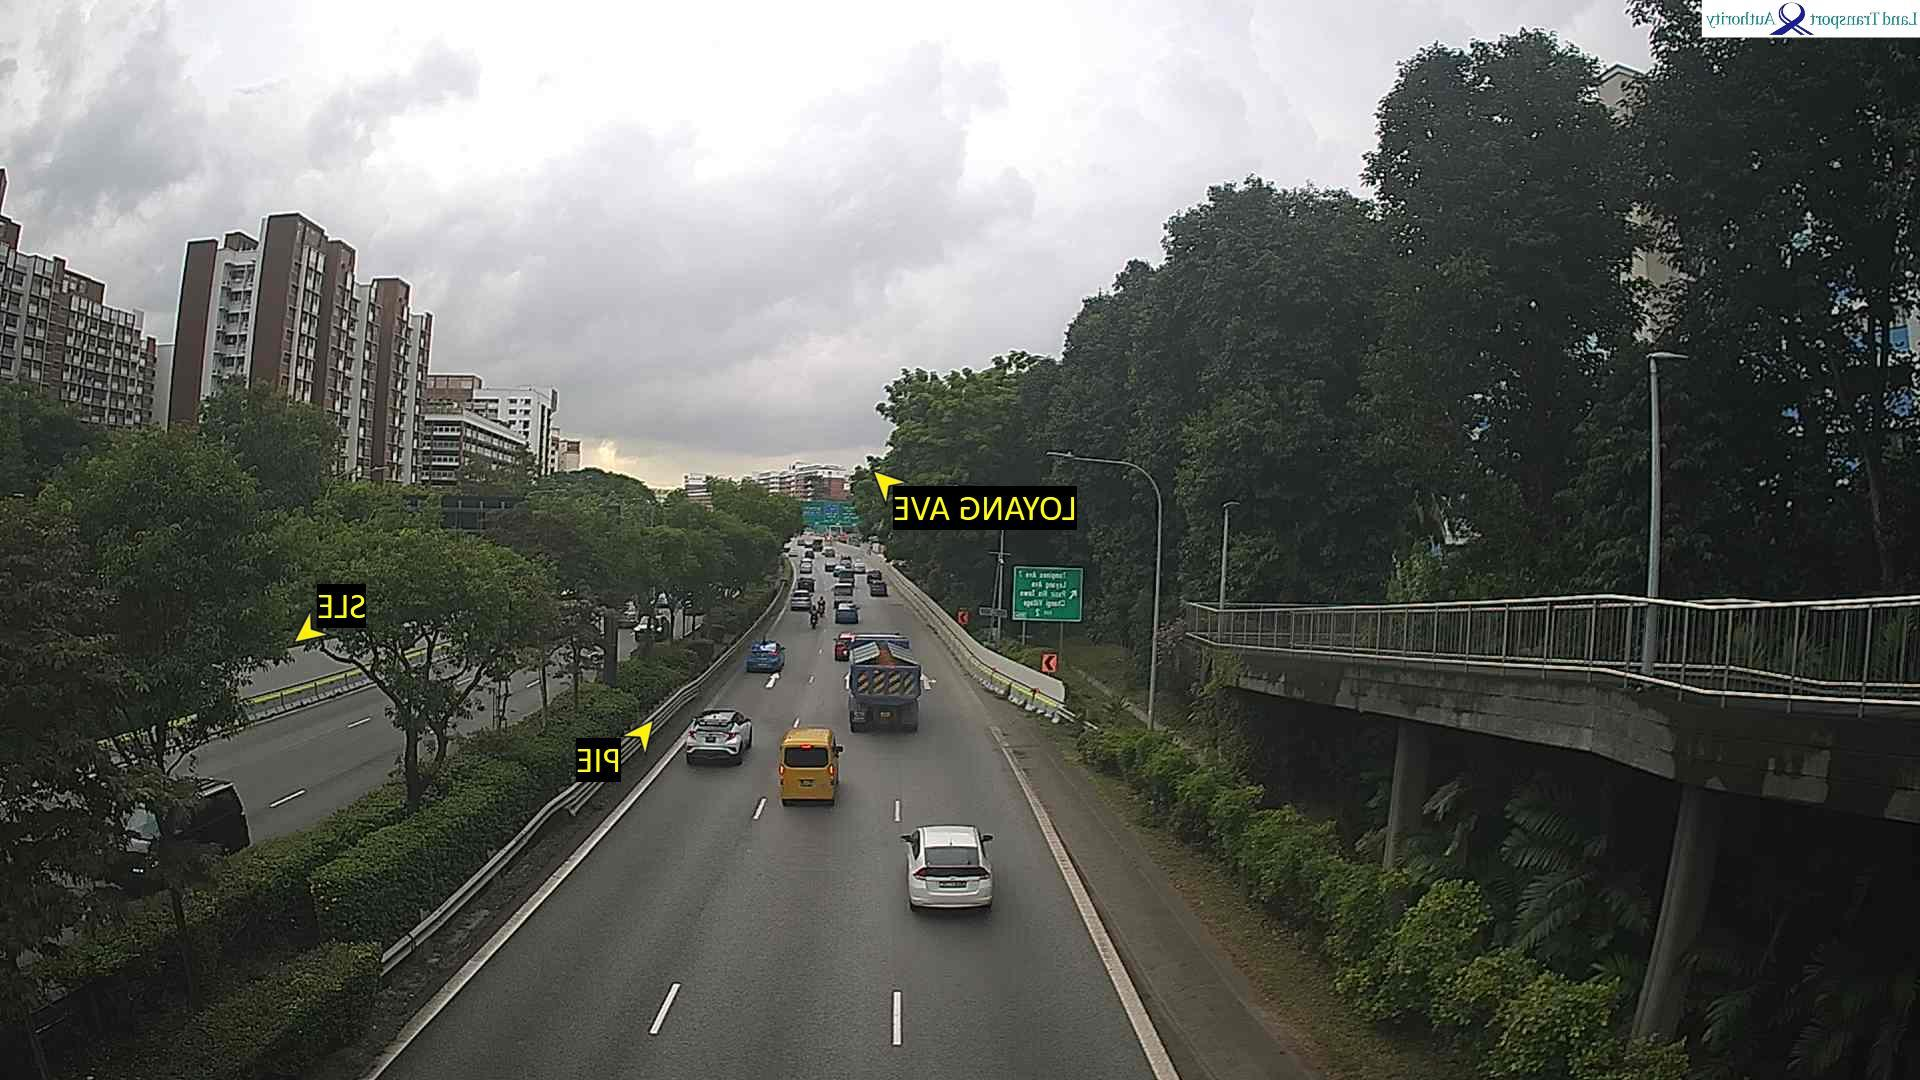cars: (8, 749, 252, 898), (901, 823, 996, 911), (779, 724, 845, 806), (685, 707, 754, 764), (746, 638, 787, 673), (635, 613, 667, 638), (835, 599, 861, 624), (835, 631, 856, 660), (834, 572, 857, 597), (790, 587, 813, 610), (797, 574, 816, 592), (871, 579, 889, 595), (823, 558, 835, 574), (799, 562, 813, 573), (867, 569, 880, 580), (854, 561, 865, 574), (841, 555, 853, 565)
motorcycle: (810, 594, 827, 625)
trucks: (845, 644, 926, 732)
